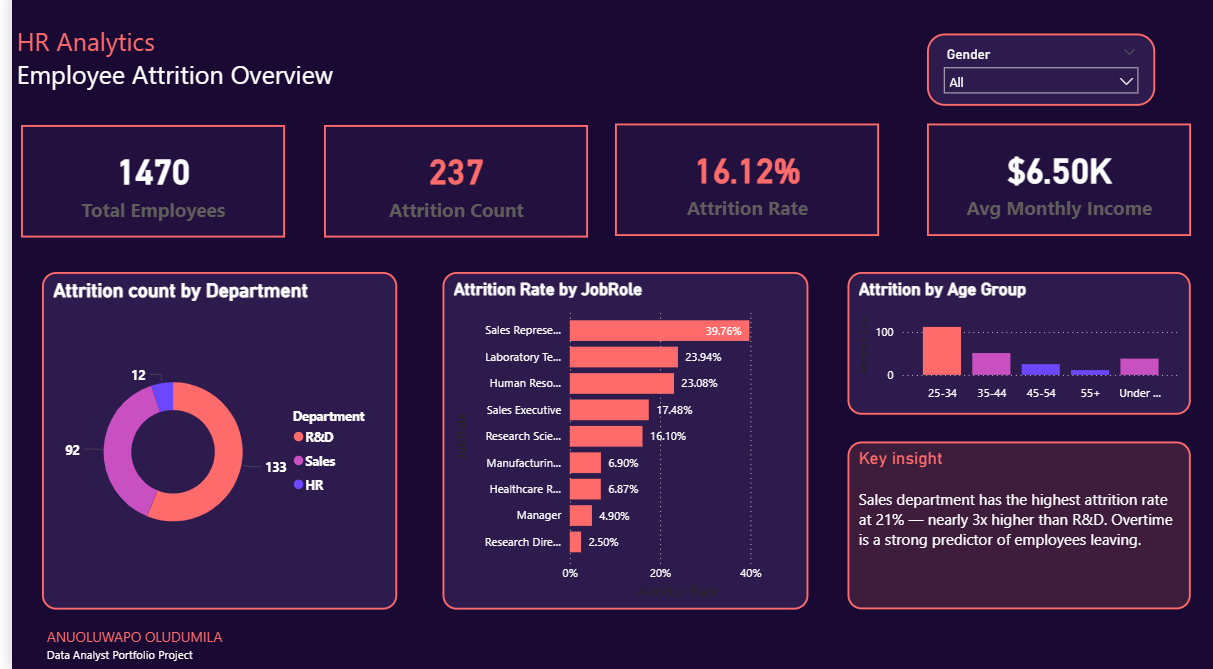

Layout of this report page (visuals, bound fields, positions):
{"tool":"powerbi","page":{"name":"overview","canvas":[1280,720],"ordinal":0},"visuals":[{"type":"card","fields":{"Values":["HR_Analytics.Total Employees"]},"box":[9.5,140,279.9,119.3],"z":0},{"type":"card","fields":{"Values":["HR_Analytics.Attrition Count"]},"box":[330.8,140,279.9,119.3],"z":1000},{"type":"card","fields":{"Values":["HR_Analytics.Attrition Rate"]},"box":[639.4,138.4,279.9,119.3],"z":2000},{"type":"card","fields":{"Values":["HR_Analytics.Avg Monthly Income"]},"box":[970.3,138.4,279.9,119.3],"z":3000},{"type":"donutChart","title":"Attrition count by Department","fields":{"Category":["HR_Analytics.Department"],"Y":["HR_Analytics.Attrition Count"]},"box":[31.8,295.9,377,357.9],"z":4000},{"type":"clusteredBarChart","fields":{"Category":["HR_Analytics.JobRole"],"Y":["HR_Analytics.Attrition Rate"]},"box":[456.5,295.9,388.1,357.9],"z":5000},{"type":"clusteredColumnChart","title":"Attrition by Age Group","fields":{"Y":["HR_Analytics.Attrition Count"],"Category":["HR_Analytics.Age Group"]},"box":[886,295.9,364.2,151.1],"z":6000},{"type":"slicer","fields":{"Values":["HR_Analytics.Gender"]},"box":[970.3,42.9,241.8,76.3],"z":7000},{"type":"textbox","title":"Key insight","box":[886,475.6,364.2,178.1],"z":8000},{"type":"textbox","box":[0,27,470.8,92.3],"z":9000},{"type":"textbox","box":[31.8,666.5,299,54.1],"z":9001}]}

Visuals, with their boxes in screenshot pixels (x1, y1, x2, y2), scaled from the page's 1280x720 canvas onto the 1213x669 screenshot:
card - HR_Analytics.Total Employees: [9, 130, 274, 241]
card - HR_Analytics.Attrition Count: [313, 130, 579, 241]
card - HR_Analytics.Attrition Rate: [606, 129, 871, 239]
card - HR_Analytics.Avg Monthly Income: [920, 129, 1185, 239]
"Attrition count by Department" donutChart: [30, 275, 387, 607]
clusteredBarChart - HR_Analytics.JobRole x HR_Analytics.Attrition Rate: [433, 275, 800, 607]
"Attrition by Age Group" clusteredColumnChart: [840, 275, 1185, 415]
slicer - HR_Analytics.Gender: [920, 40, 1149, 111]
"Key insight" textbox: [840, 442, 1185, 607]
textbox: [0, 25, 446, 111]
textbox: [30, 619, 313, 668]
